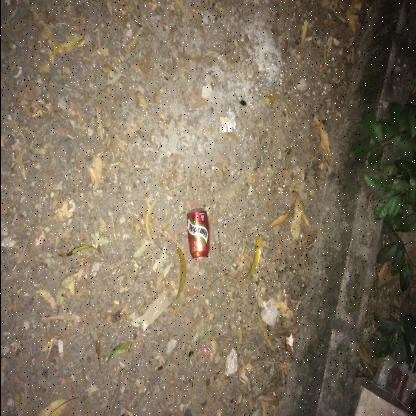metal: (186, 207, 208, 260)
